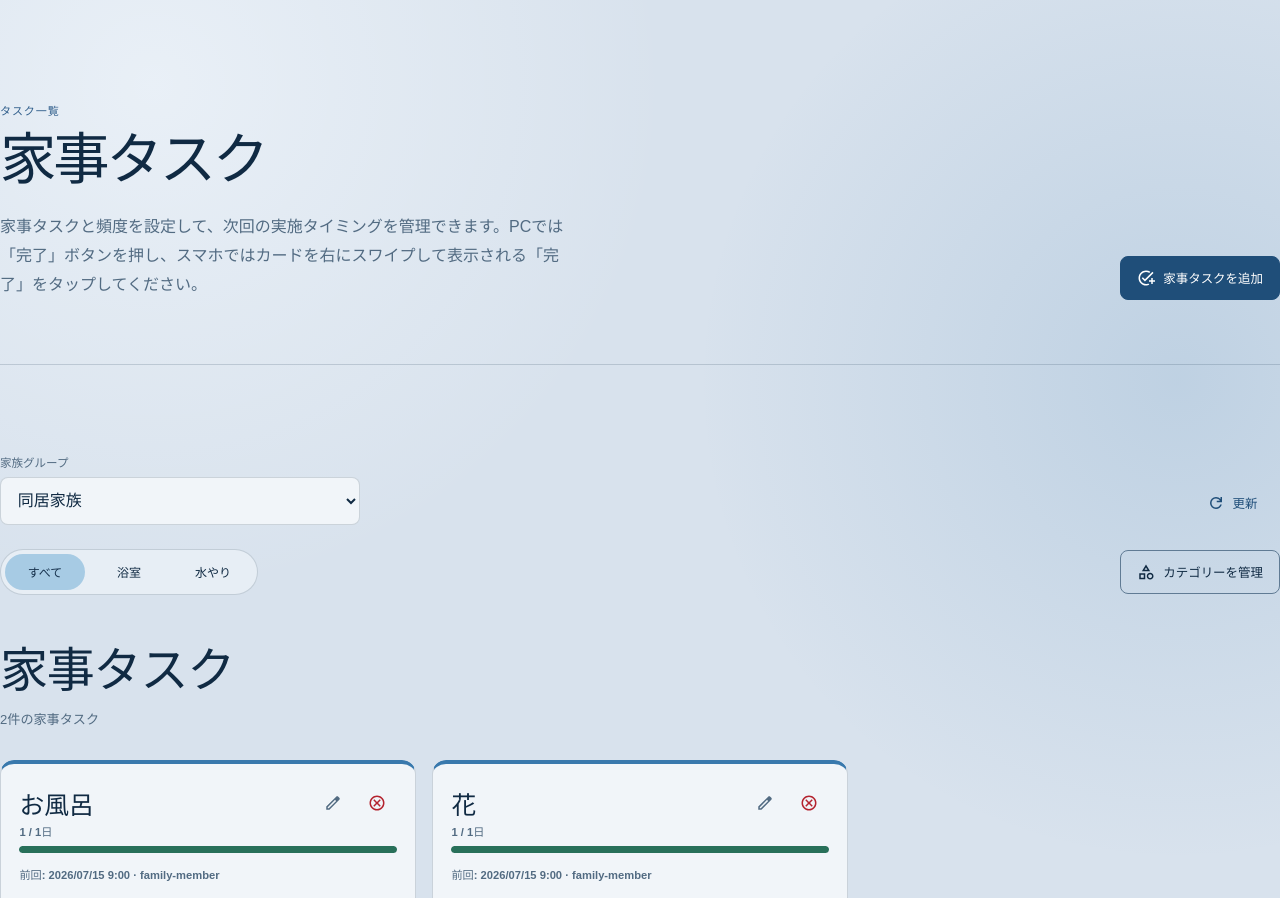
Test: ChoresPage › filters tasks by category
Click the button "水やり".
click(213, 572)  # box x1=173 y1=554 x2=253 y2=590
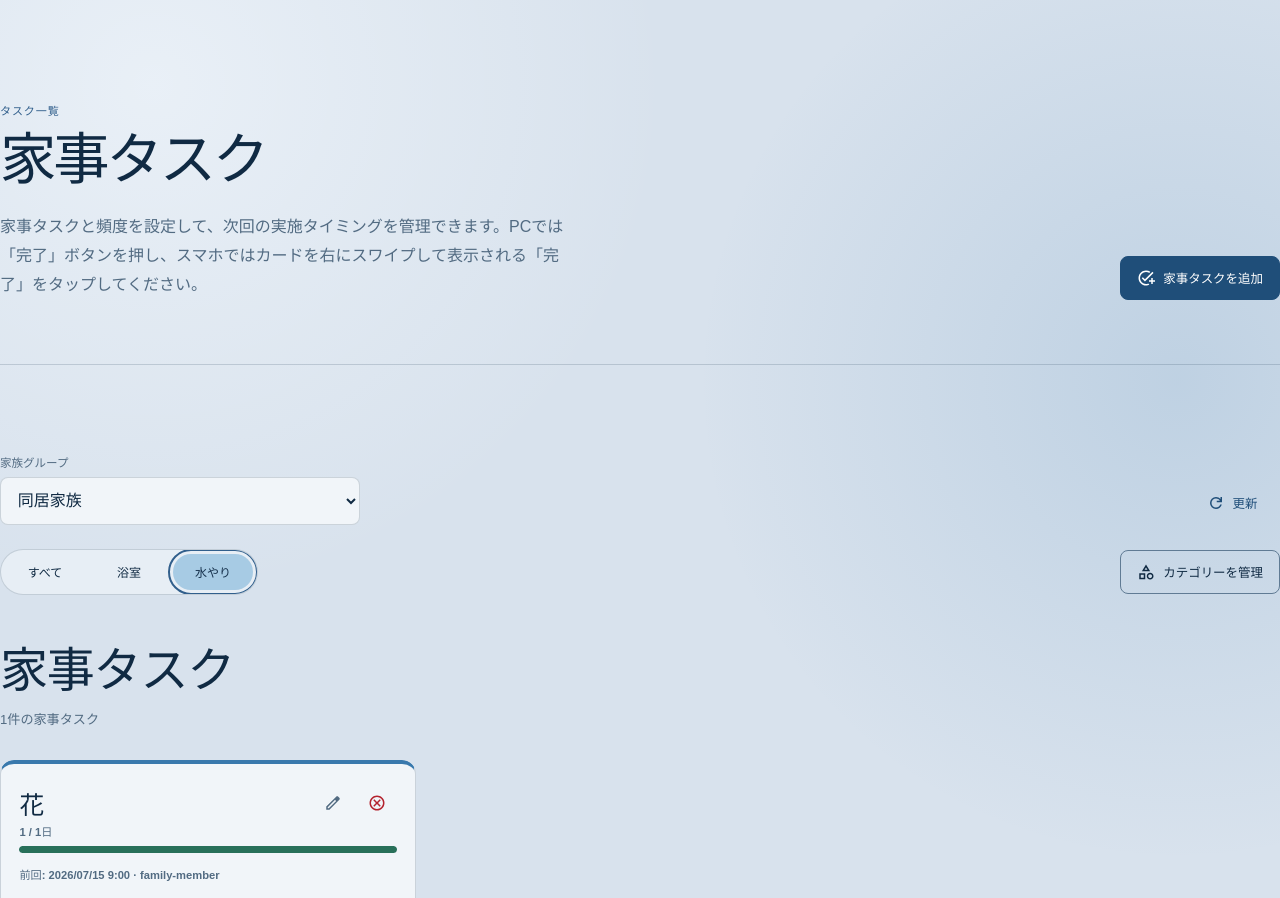
Expected: the heading "花" is shown, x1=19 y1=785 x2=44 y2=821
Result: the heading "お風呂" is gone
